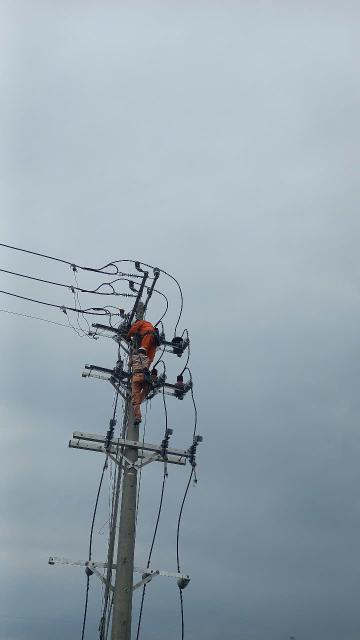harness: (131, 366, 155, 376), (138, 330, 162, 337)
helmet: (128, 318, 144, 325), (136, 346, 148, 354)
shoes: (133, 418, 145, 425)
